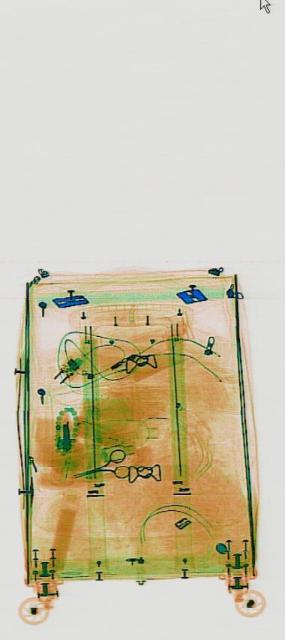Scissors: (70, 443, 127, 492)
